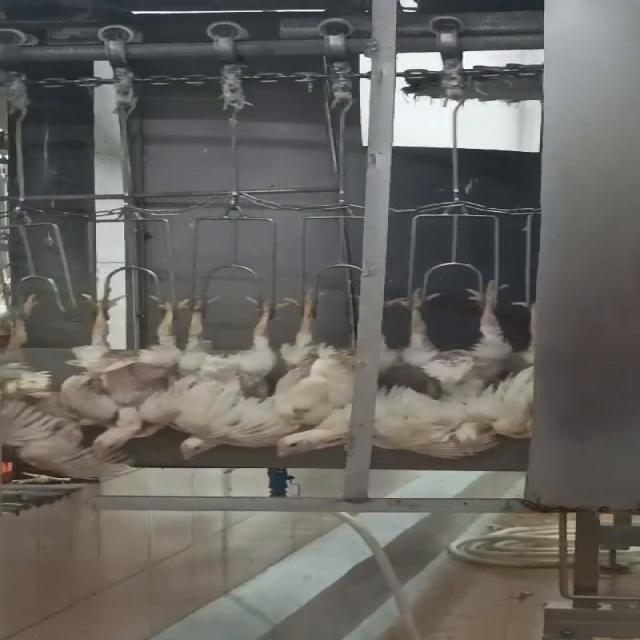chicken: (0, 294, 149, 486), (384, 278, 532, 462), (167, 284, 293, 460), (261, 280, 368, 457), (84, 286, 184, 454)
